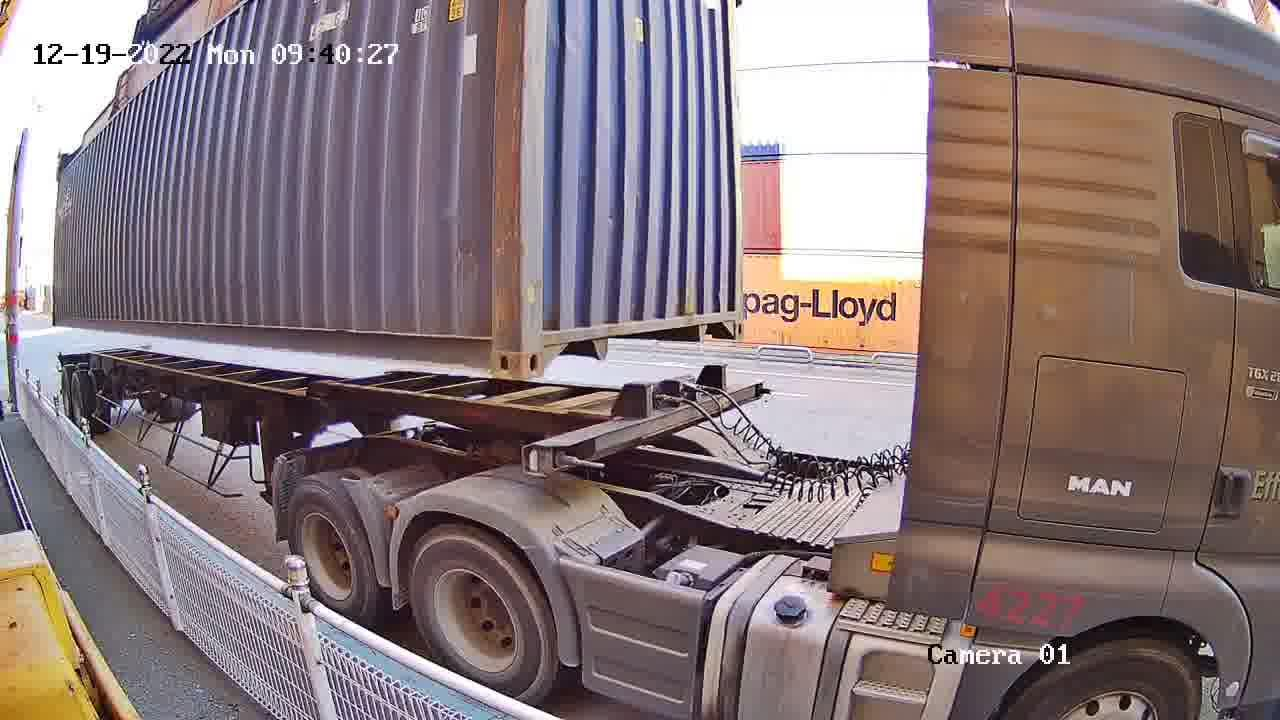Chassis: (524, 379, 764, 473)
Cone: (527, 443, 568, 472)
Hole_L: (521, 315, 575, 379)
Hole_R: (470, 317, 521, 378), (716, 295, 744, 342)
Tire: (410, 529, 553, 698), (284, 482, 375, 614)
